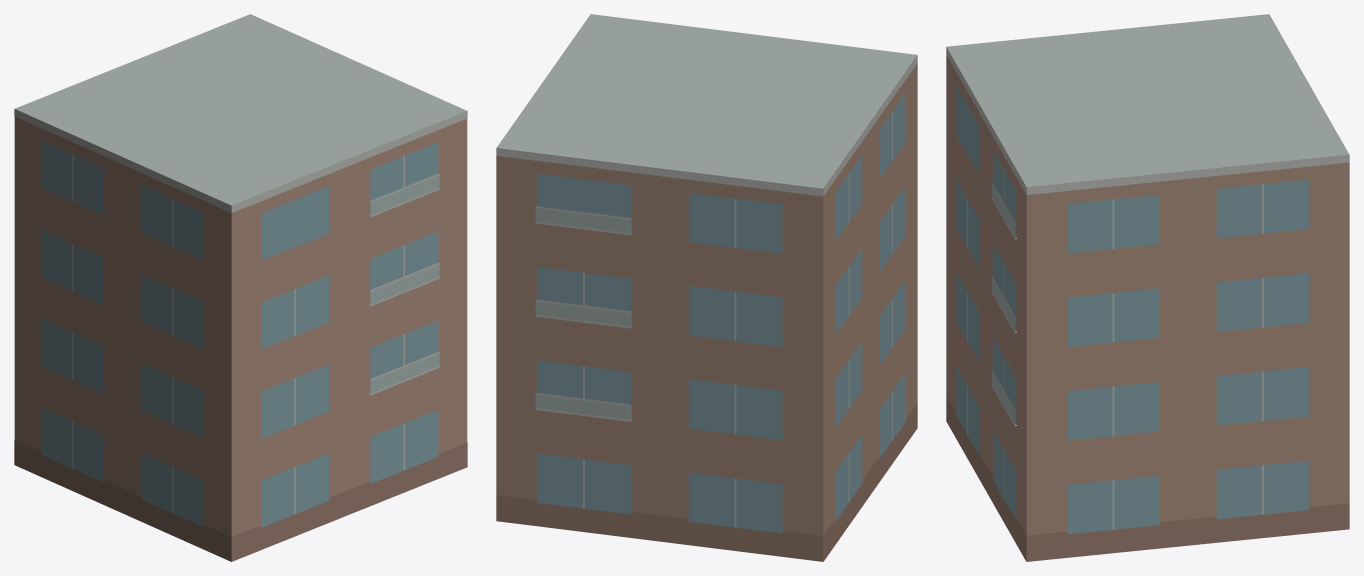
Rendered from survey-upis-32695261.glb.
The picture shows the model from 3 angles, left to right: view 1: azimuth 30°, elevation 25°; view 2: azimuth 150°, elevation 25°; view 3: azimuth 270°, elevation 25°; orthographic projection. The views are drawn at different scales.
Parts seen in each view (by area): view 1: survey-upis-32695261.tmp; view 2: survey-upis-32695261.tmp; view 3: survey-upis-32695261.tmp.
Part boxes in pixels (<box>): survey-upis-32695261.tmp: <box>14,14,467,561</box>; survey-upis-32695261.tmp: <box>496,14,917,561</box>; survey-upis-32695261.tmp: <box>946,14,1349,561</box>.
Size of the model in its own units: 11.51 by 11.6 by 11.32.
